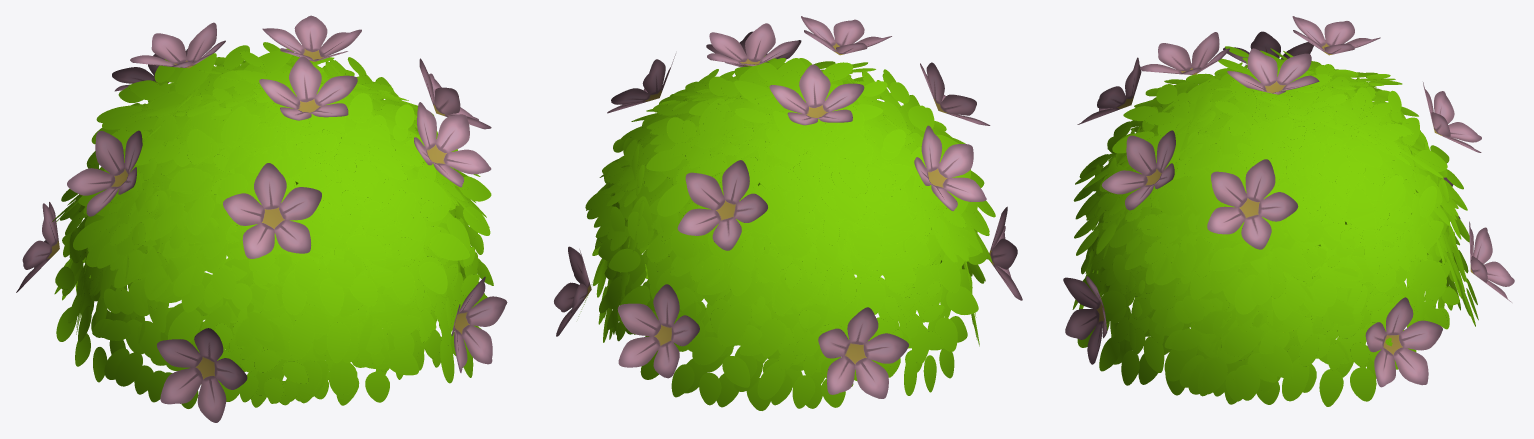
The model's file is Bush_Flowers.glb.
The picture shows the model from 3 angles, left to right: view 1: azimuth 30°, elevation 25°; view 2: azimuth 150°, elevation 25°; view 3: azimuth 270°, elevation 25°; orthographic projection. The views are drawn at different scales.
Parts seen in each view (by area): view 1: Bush_Flowers; view 2: Bush_Flowers; view 3: Bush_Flowers.
Part boxes in pixels (x1=…): Bush_Flowers: x1=16, y1=15, x2=507, y2=422; Bush_Flowers: x1=554, y1=16, x2=1022, y2=410; Bush_Flowers: x1=1063, y1=16, x2=1514, y2=406.
Bounding box in the file's own units: 1.09 × 0.7585 × 1.11.
Materials: 2 (2 with a texture image).
